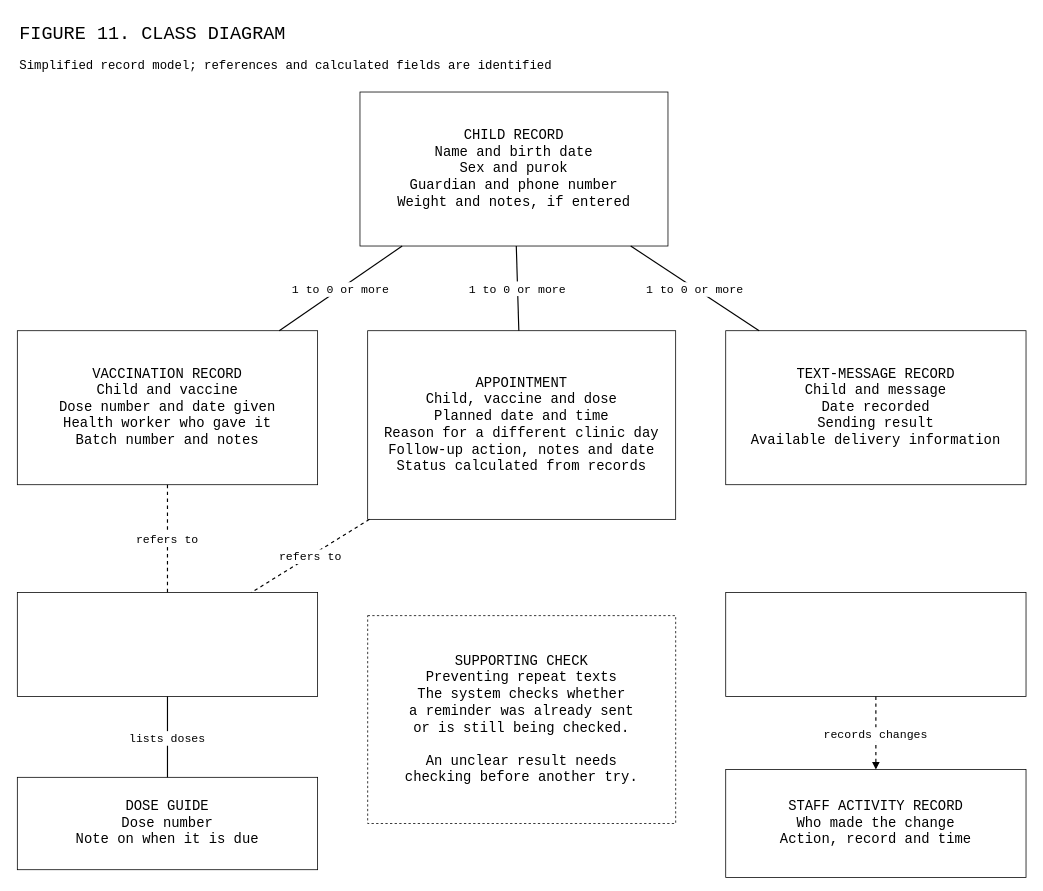
Image size: 1043x891. Some labels were removed from this diagram. Here are the shapes that lost their labels. From the top down, the centre of each, then its label:
At (167,644): "VACCINE LIST (REFERENCE) Vaccine names Doses for each vaccine".
At (875,644): "STAFF ACCOUNT Name and assigned role Connection to staff sign-in".
